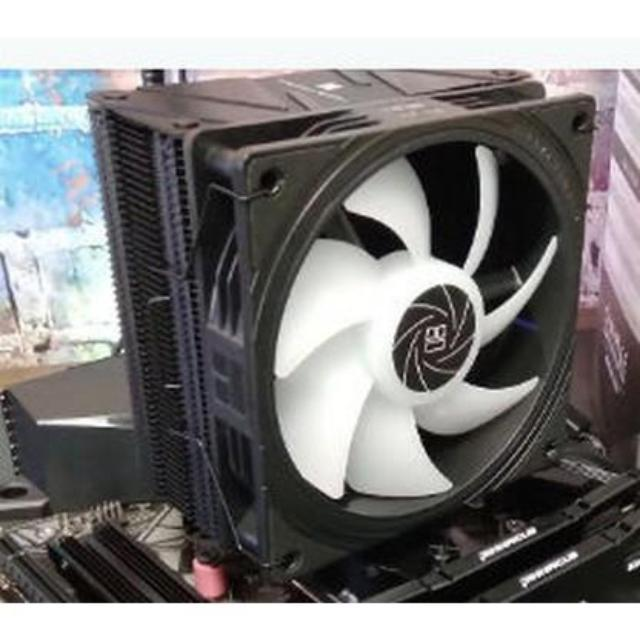CPU_Fan: (82, 70, 580, 541)
